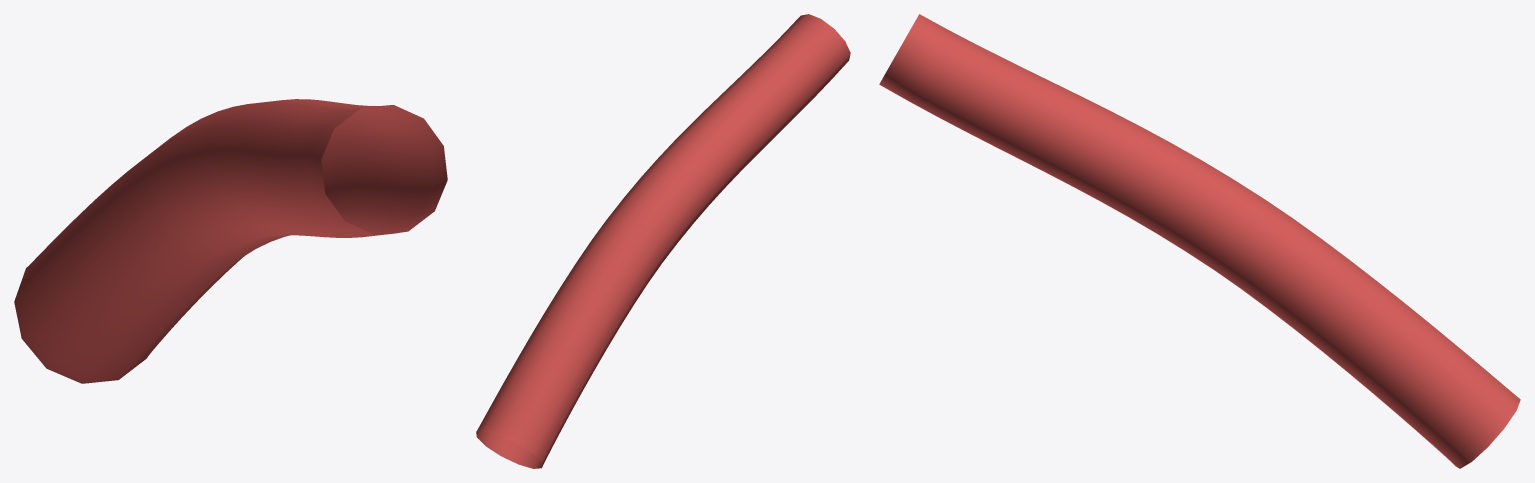
3 renders of one model, left to right at view 1: azimuth 30°, elevation 25°; view 2: azimuth 150°, elevation 25°; view 3: azimuth 270°, elevation 25°, orthographic. The views are drawn at different scales.
Visible parts, largest first — view 1: 右侧髂腰动脉; view 2: 右侧髂腰动脉; view 3: 右侧髂腰动脉.
Part boxes in pixels (x1,y1,x2,y2): 右侧髂腰动脉: (14, 99, 447, 383); 右侧髂腰动脉: (476, 14, 850, 468); 右侧髂腰动脉: (879, 14, 1520, 468).
Bounding box in the file's own units: 0.0129 × 0.027 × 0.0395.
